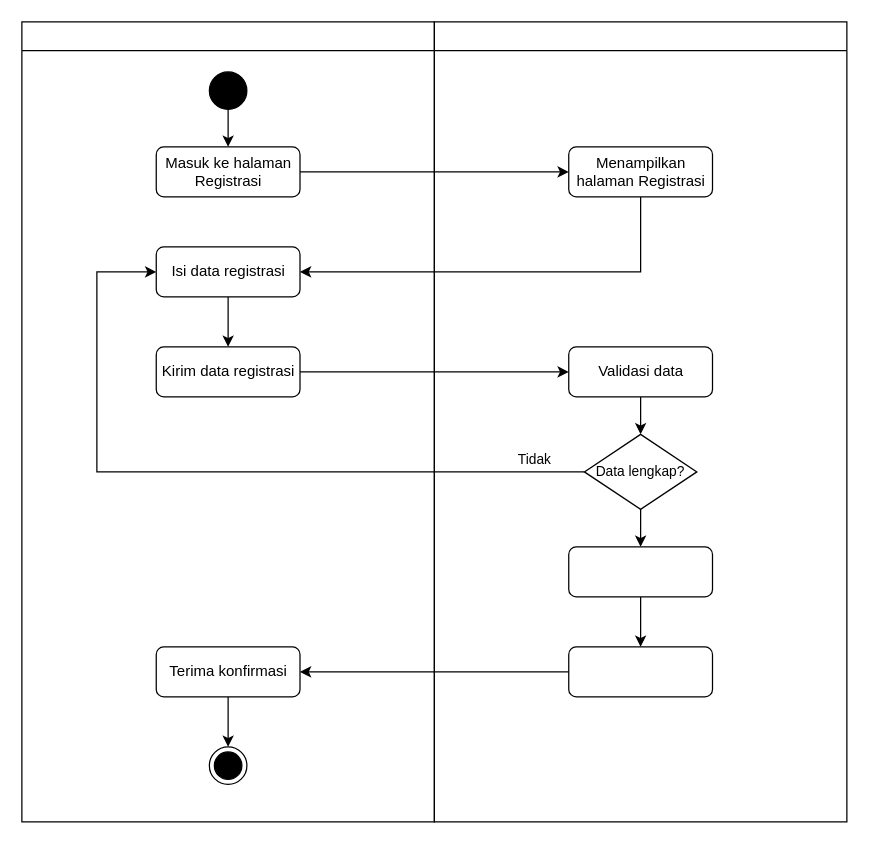
Some shapes in this 869 by 844 pixel diagram are drawn without their labels. Here are the shapes that lost their labels. From the top down, the box of each, then its label:
(21, 21, 434, 822): Pemancing
(433, 21, 847, 822): Sistem
(568, 546, 712, 597): Simpan data registrasi
(568, 646, 712, 697): Konfirmasi registrasi telah berhasil
